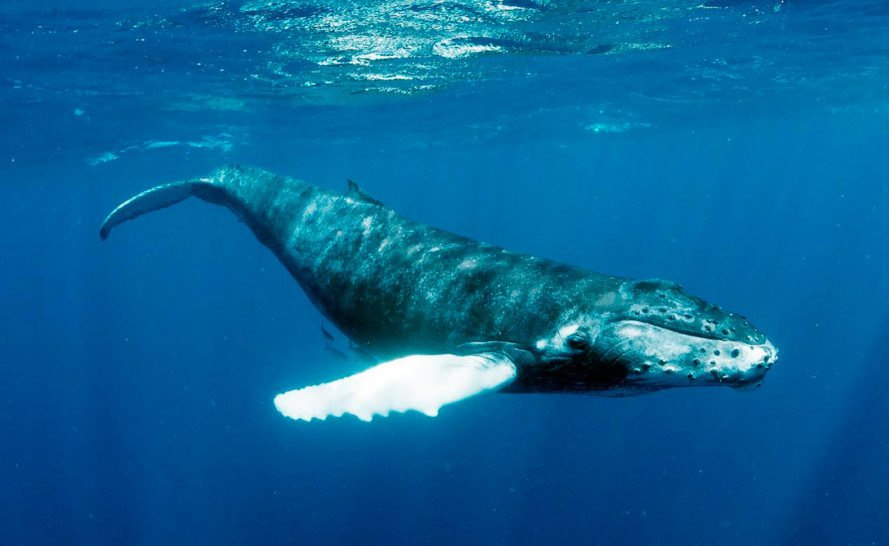humpback: (198, 168, 779, 396)
